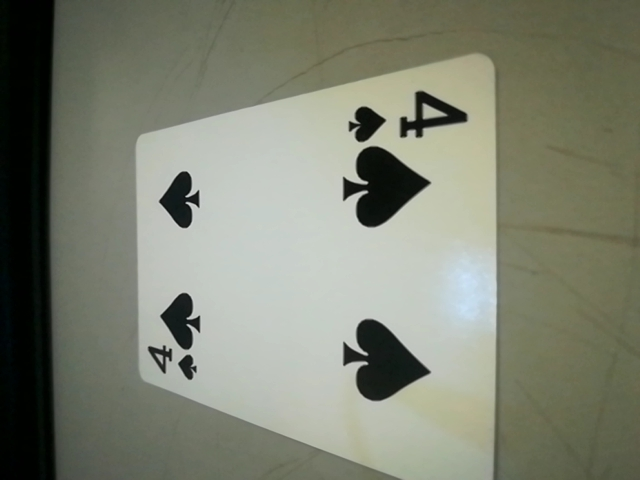ht 4: (342, 85, 472, 153)
